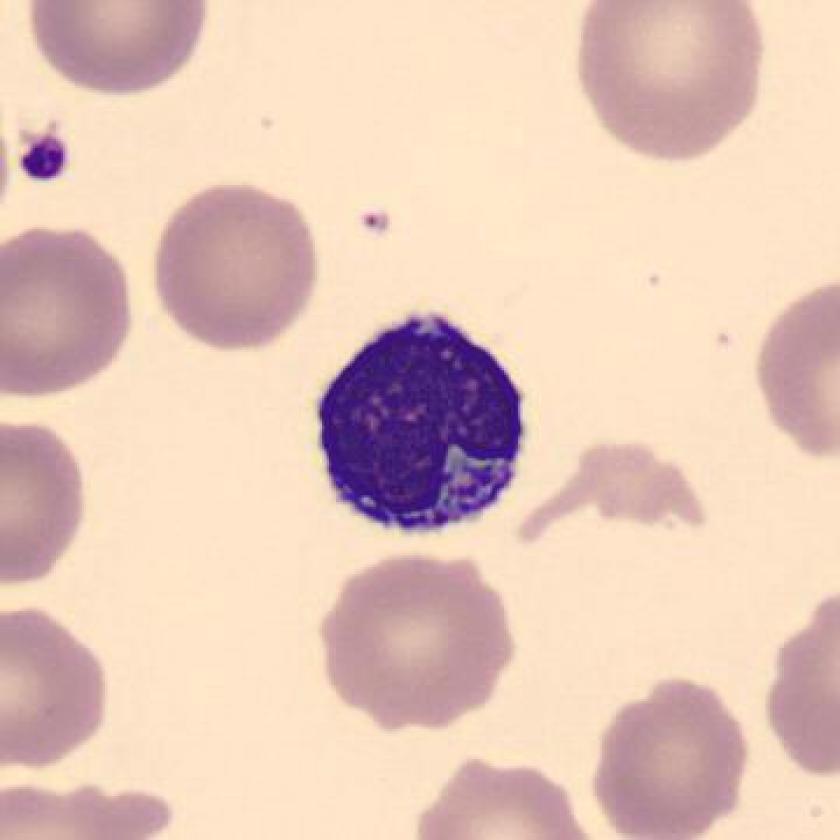lymphocyte: (300, 302, 545, 549)
